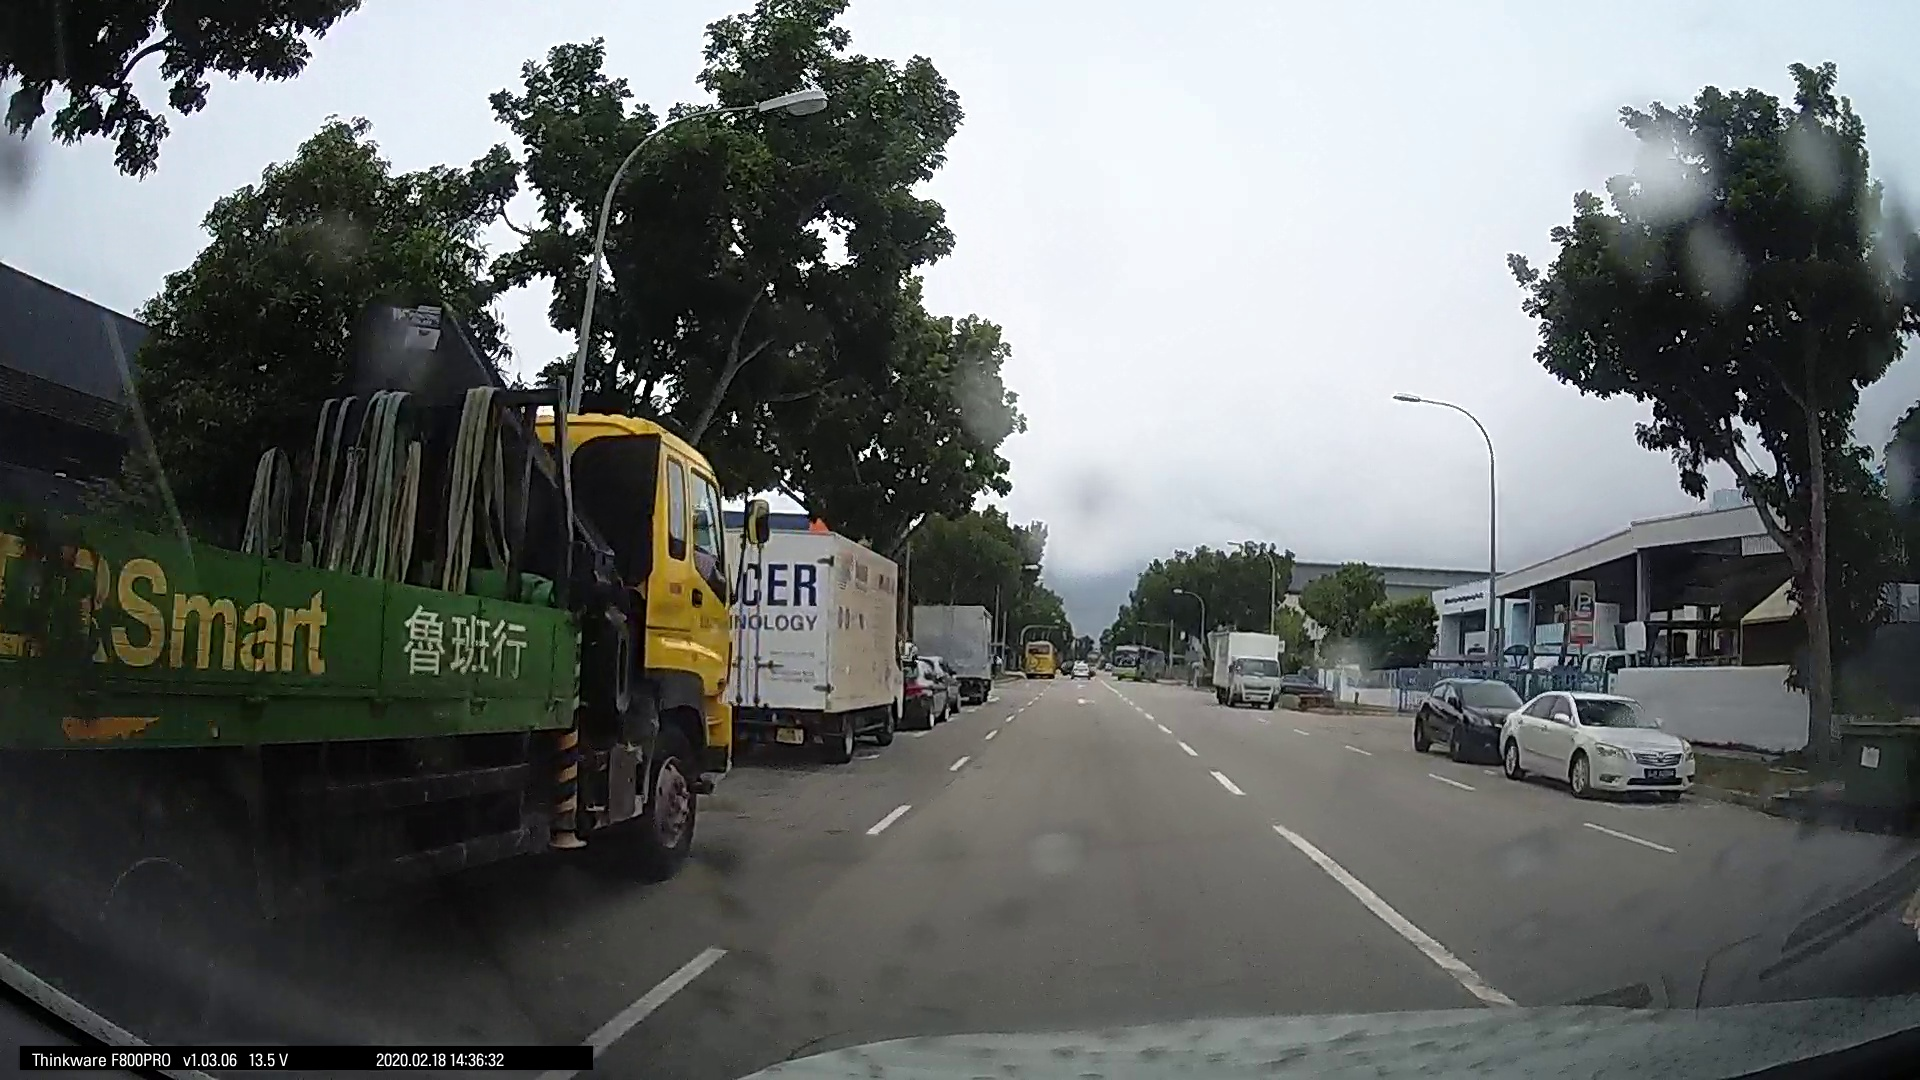Heavy Vehicle: (91, 369, 746, 942), (716, 522, 910, 771), (914, 596, 992, 698), (1209, 629, 1280, 709)
Light Vehicle: (1490, 680, 1698, 803), (1407, 673, 1513, 760), (895, 647, 951, 725)
